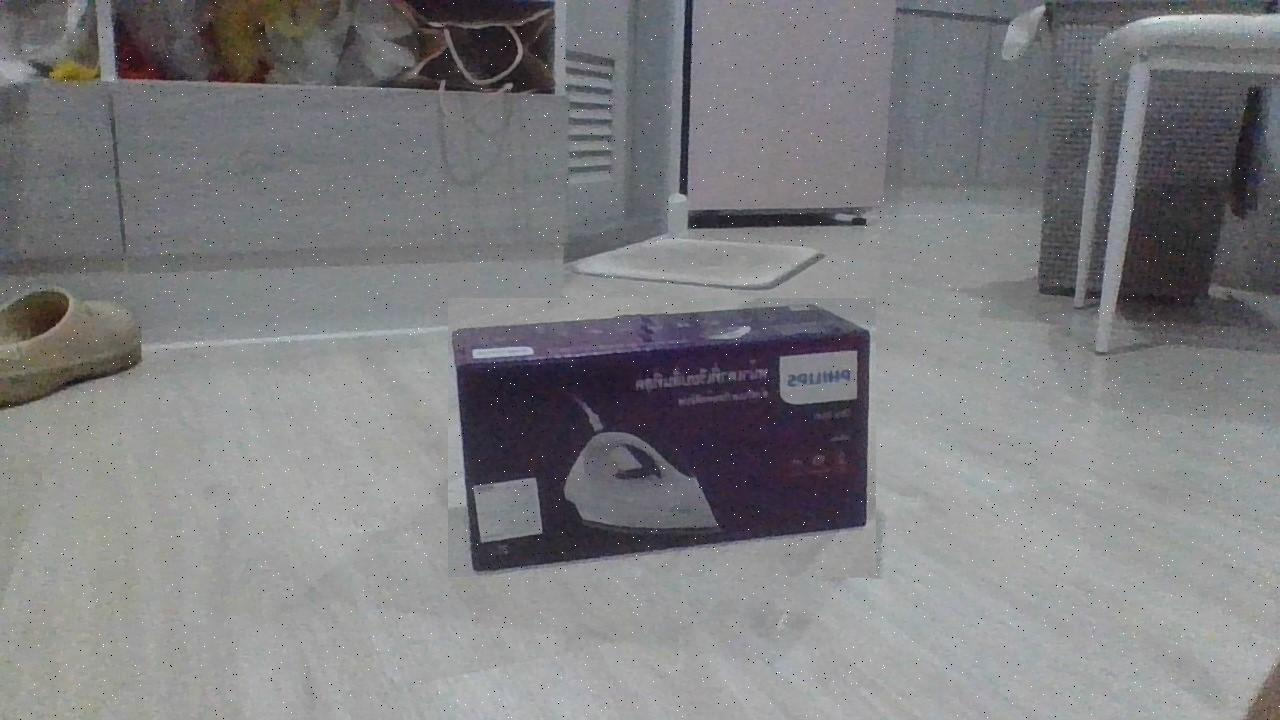IRON: (448, 298, 876, 577)
